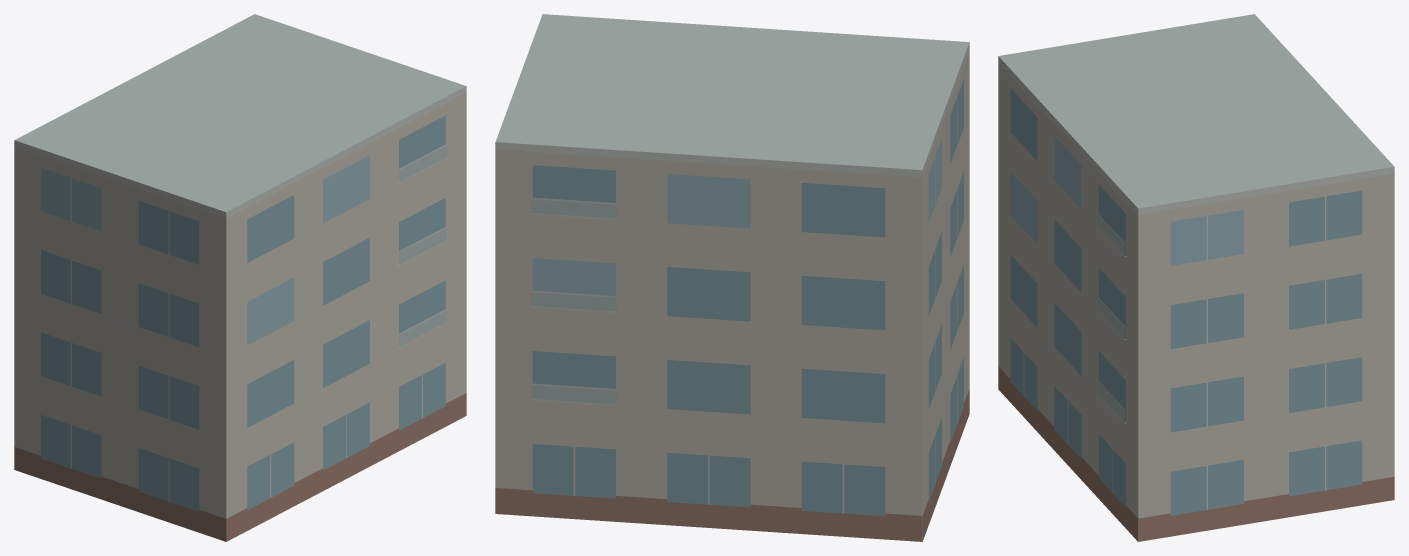
Rendered from residential-a4829955-0ed2-4dc5-975f-d6d2fd1c320b.glb.
The picture shows the model from 3 angles, left to right: view 1: azimuth 30°, elevation 25°; view 2: azimuth 150°, elevation 25°; view 3: azimuth 270°, elevation 25°; orthographic projection. The views are drawn at different scales.
Visible parts, largest first — view 1: residential-a4829955-0ed2-4dc5-975f-d6d2fd1c320b.tmp; view 2: residential-a4829955-0ed2-4dc5-975f-d6d2fd1c320b.tmp; view 3: residential-a4829955-0ed2-4dc5-975f-d6d2fd1c320b.tmp.
Part boxes in pixels (x1,y1,x2,y2): residential-a4829955-0ed2-4dc5-975f-d6d2fd1c320b.tmp: [14, 14, 466, 541]; residential-a4829955-0ed2-4dc5-975f-d6d2fd1c320b.tmp: [495, 14, 969, 541]; residential-a4829955-0ed2-4dc5-975f-d6d2fd1c320b.tmp: [998, 14, 1394, 541].
Size of the model in its own units: 15.29 by 12.2 by 13.16.
